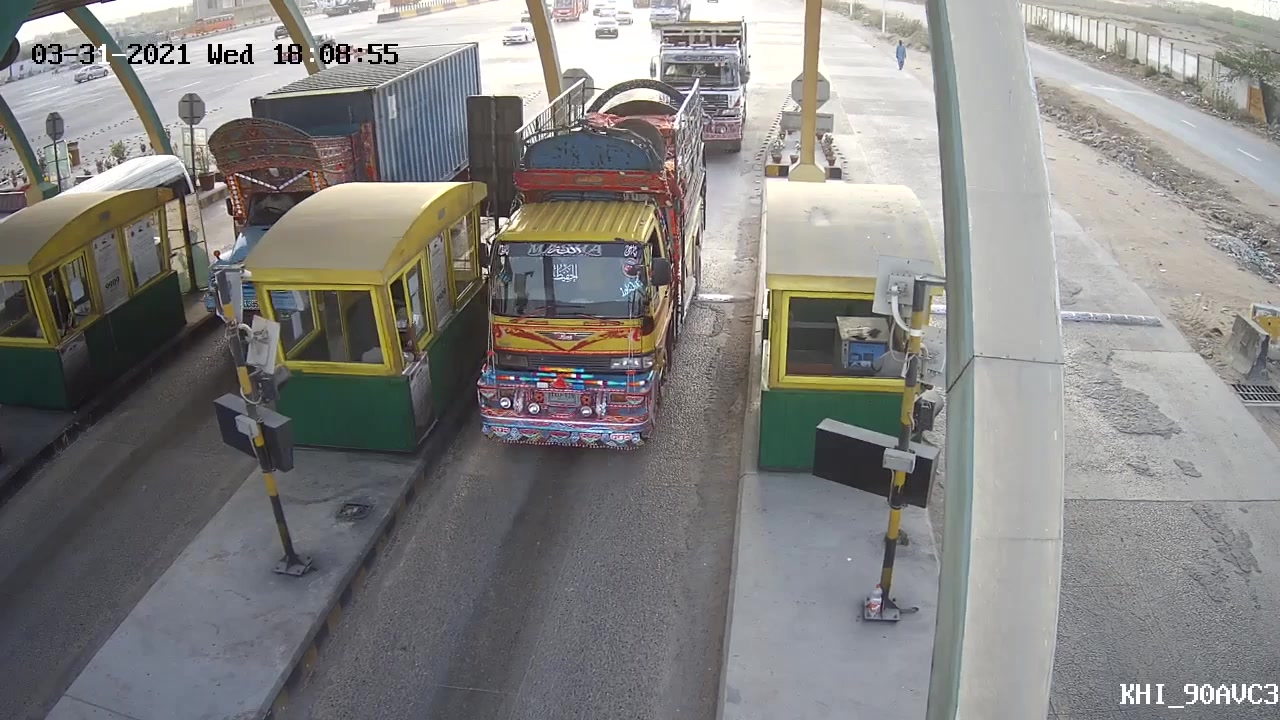F5: (462, 75, 717, 450)
